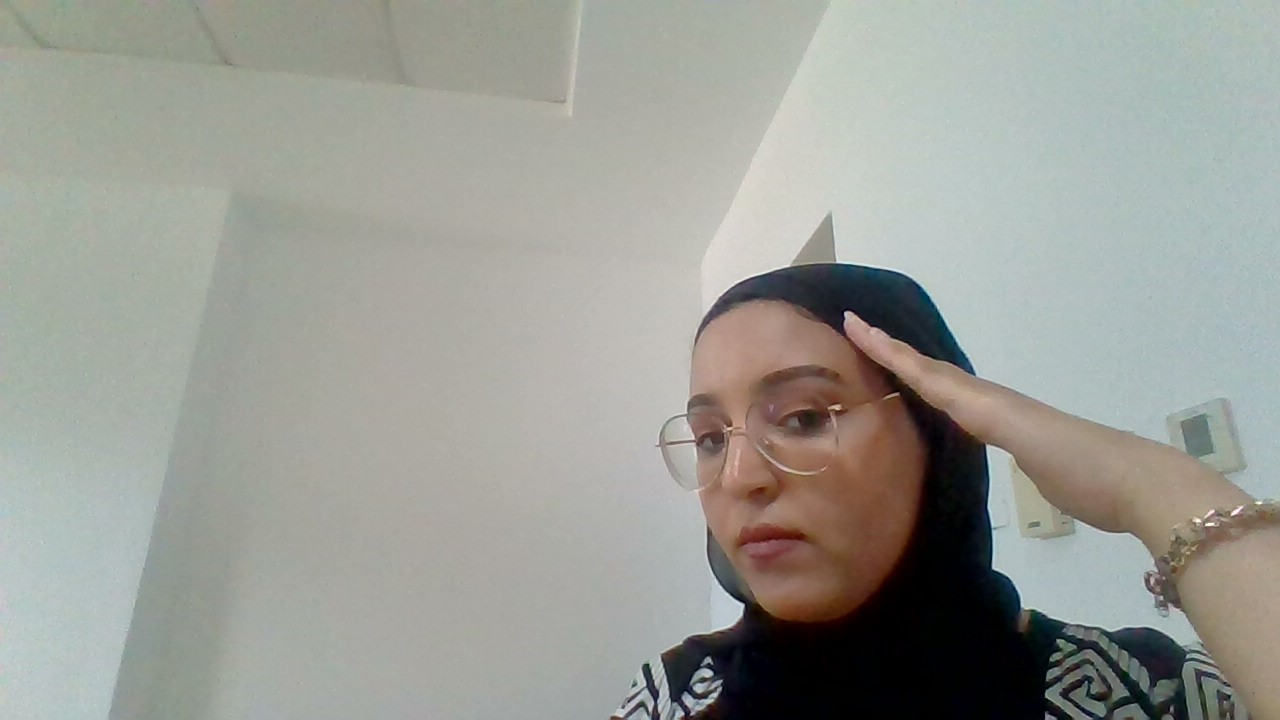hello: (833, 291, 1270, 565)
